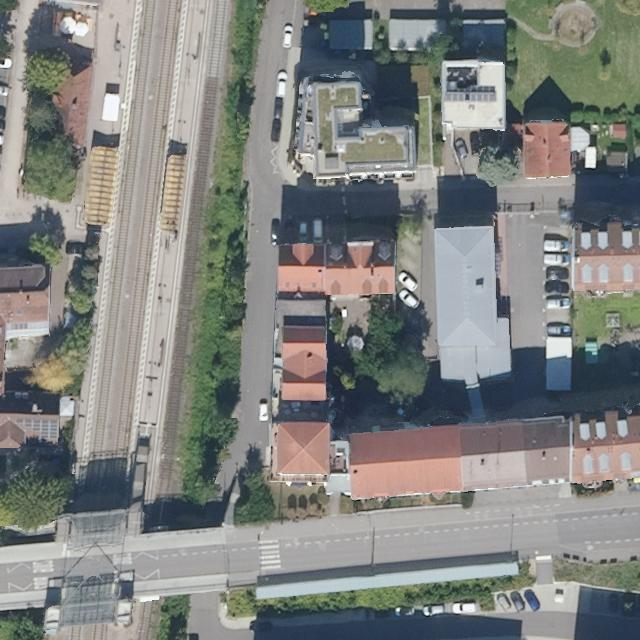PV: (13, 415, 61, 442), (440, 88, 498, 102), (12, 321, 29, 330)
